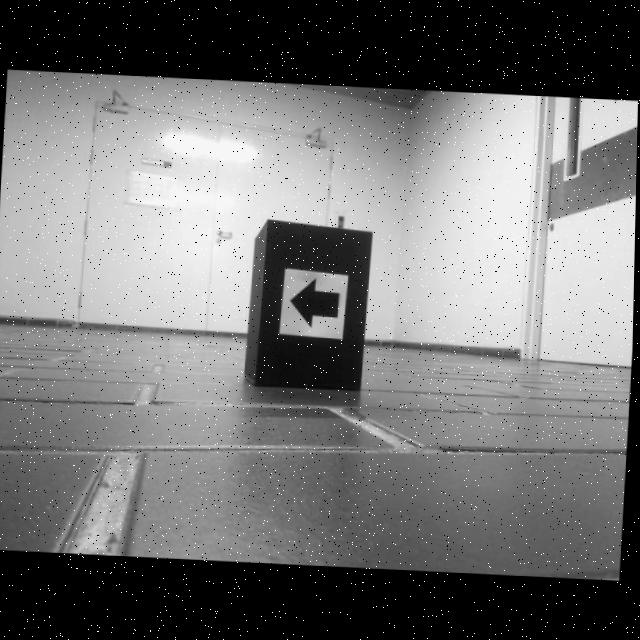LEFT: (291, 276, 341, 328)
